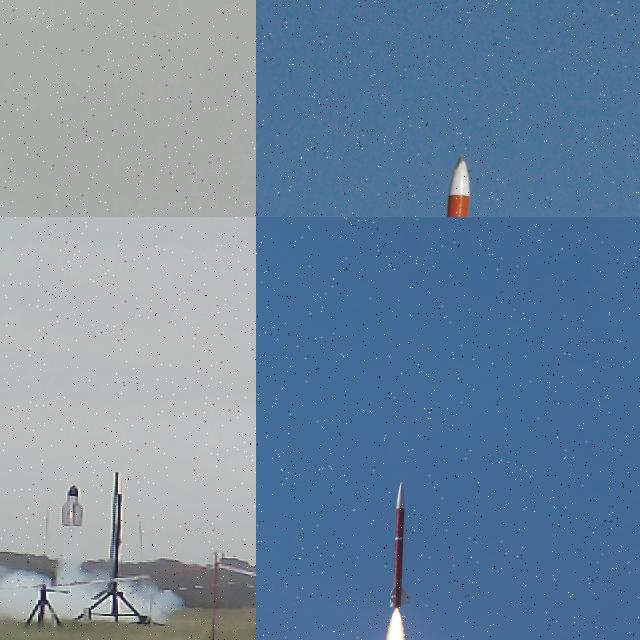Rocket: (412, 152, 485, 217), (388, 480, 412, 610), (60, 484, 84, 528)
